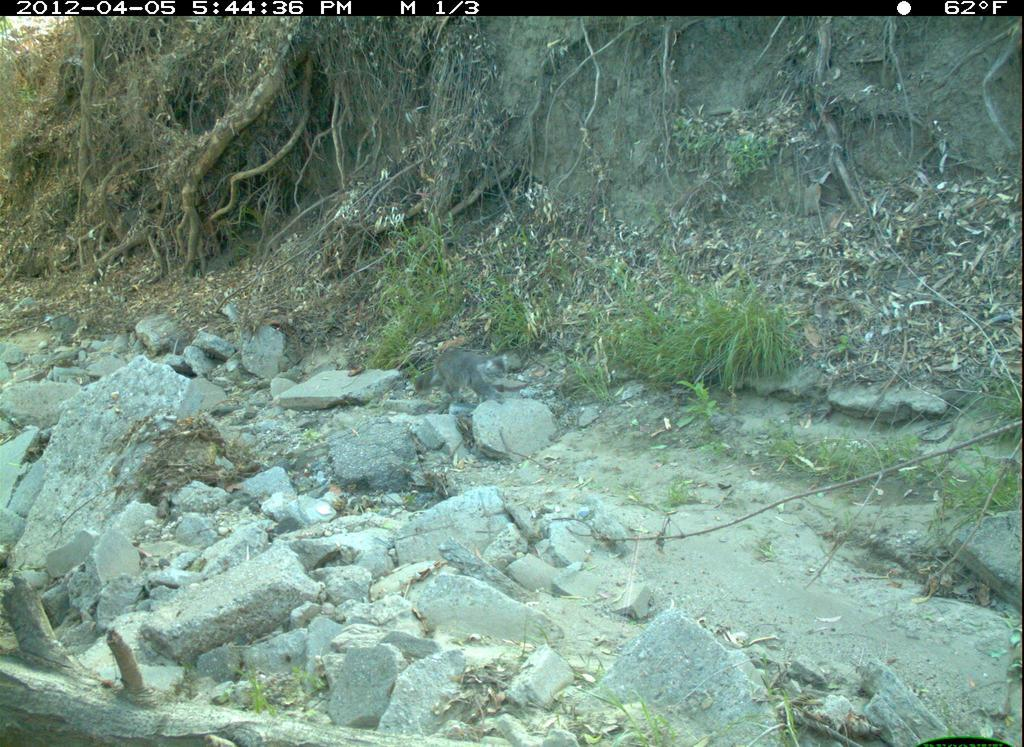cat: (401, 343, 517, 410)
